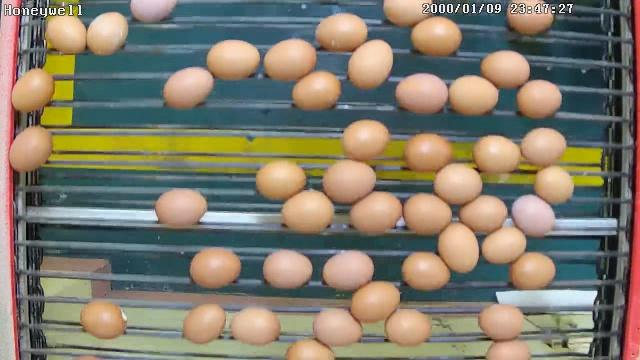egg: (322, 157, 376, 206), (279, 188, 335, 235), (348, 189, 403, 236), (262, 36, 318, 82), (187, 246, 242, 292), (253, 156, 308, 202), (204, 38, 261, 82), (153, 185, 210, 229), (346, 38, 394, 90), (161, 65, 215, 111), (393, 71, 448, 116), (409, 14, 464, 59), (436, 219, 480, 275), (446, 73, 501, 117), (321, 248, 376, 292), (432, 160, 484, 206), (348, 280, 402, 324), (402, 191, 454, 236), (399, 248, 452, 292), (8, 65, 56, 113), (507, 248, 557, 294), (290, 68, 342, 112), (311, 306, 364, 349), (314, 12, 368, 54), (261, 249, 315, 291), (7, 124, 53, 173), (472, 133, 523, 177), (382, 306, 434, 349), (403, 131, 455, 174), (510, 192, 556, 240), (79, 298, 129, 342), (341, 118, 391, 162), (479, 49, 531, 91), (86, 10, 132, 57), (228, 307, 282, 347), (515, 77, 564, 121), (180, 302, 228, 346), (477, 300, 526, 343), (459, 192, 509, 234), (44, 11, 88, 58), (520, 125, 568, 168), (481, 225, 528, 266), (506, 0, 555, 37), (532, 165, 576, 206)
